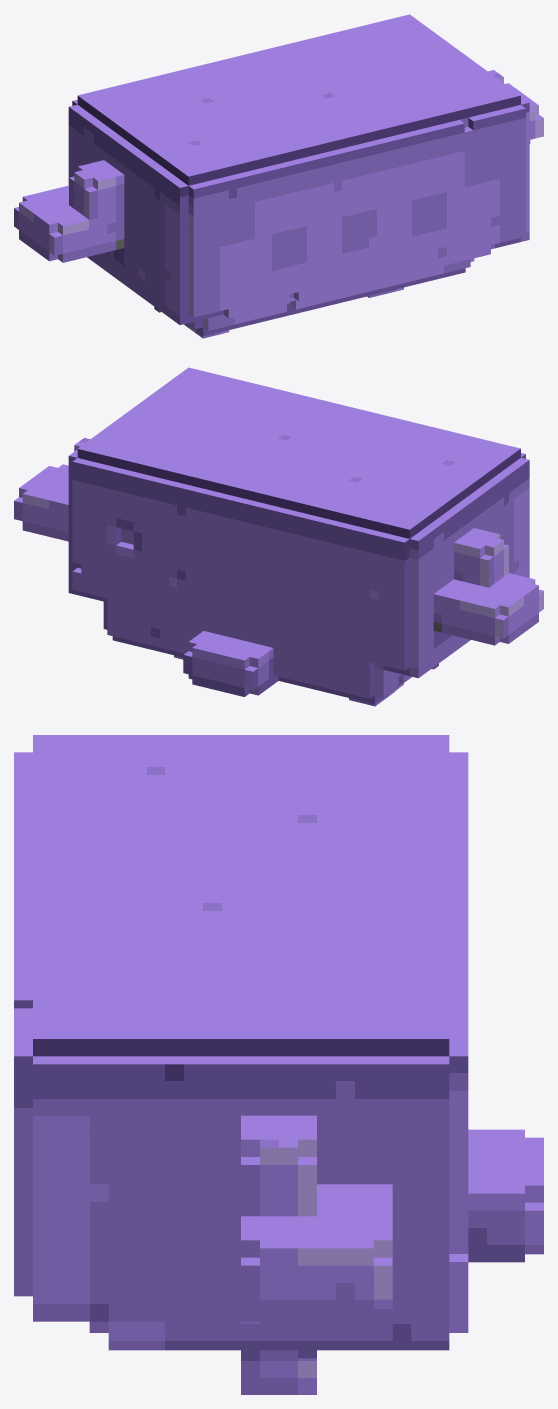
File: watertower_owl_bodyao.fezao.glb
3 views of the same model, one above another, from view 1: azimuth 30°, elevation 25°; view 2: azimuth 150°, elevation 25°; view 3: azimuth 270°, elevation 25° (orthographic). The views are drawn at different scales.
Visible parts, largest first — view 1: WATERTOWER_OWL_BODYAO; view 2: WATERTOWER_OWL_BODYAO; view 3: WATERTOWER_OWL_BODYAO.
Boxes of the visible parts, x1,y1,x2,y2 form: WATERTOWER_OWL_BODYAO: (14,14,543,338); WATERTOWER_OWL_BODYAO: (14,367,543,706); WATERTOWER_OWL_BODYAO: (14,735,543,1394).
Bounding box in the file's own units: 3.5 × 1.5 × 1.75.
Materials: 1 (1 with a texture image).
